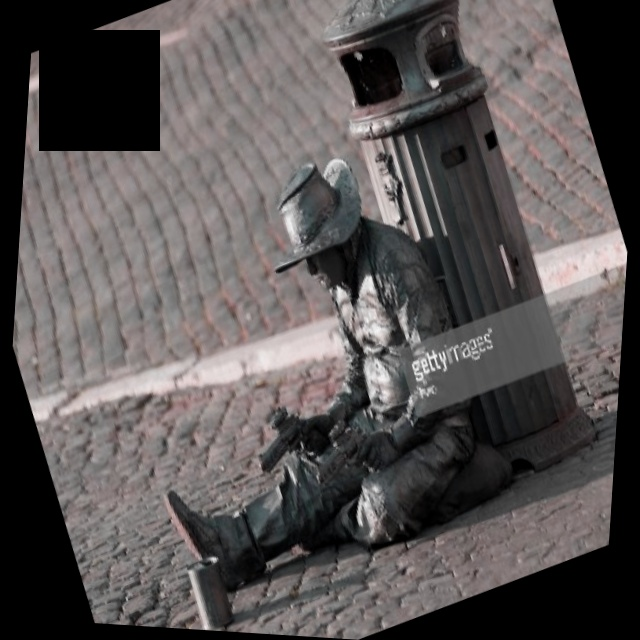gun: (240, 386, 331, 481)
